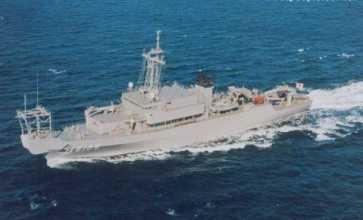warship: (14, 26, 315, 165)
